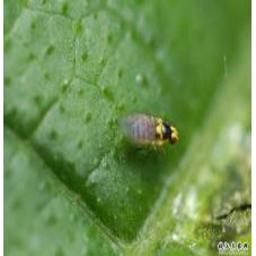liriomyza: (117, 112, 179, 154)
